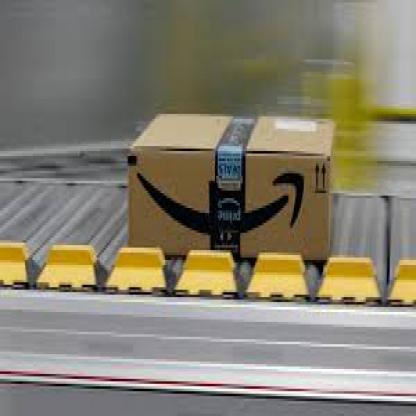package: (126, 110, 336, 261)
